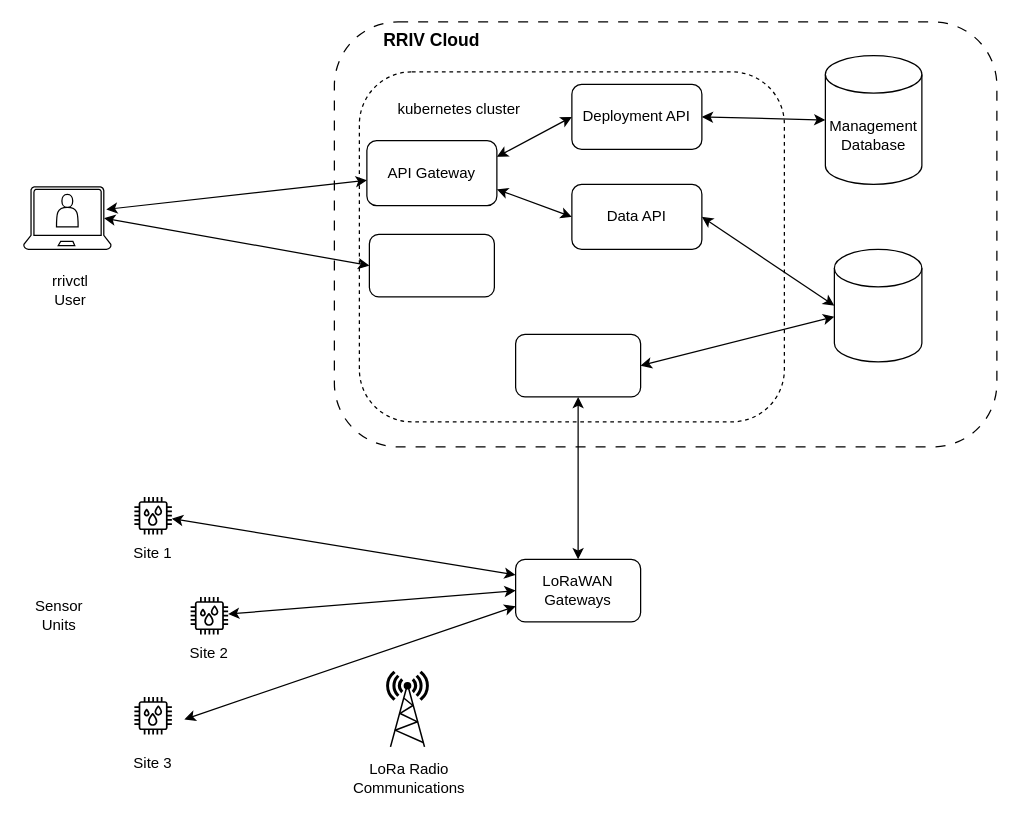
The diagram is 1019 pixels wide and 819 high, and some of its shapes have lost their labels. The box of each missing label's shape, as (x1, y1, x2, y2) in pixels:
Authentication Service: (368, 233, 494, 297)
ChirpStack LoRaWAN Server: (514, 333, 641, 397)
Timeseries Data Base: (833, 248, 922, 362)
